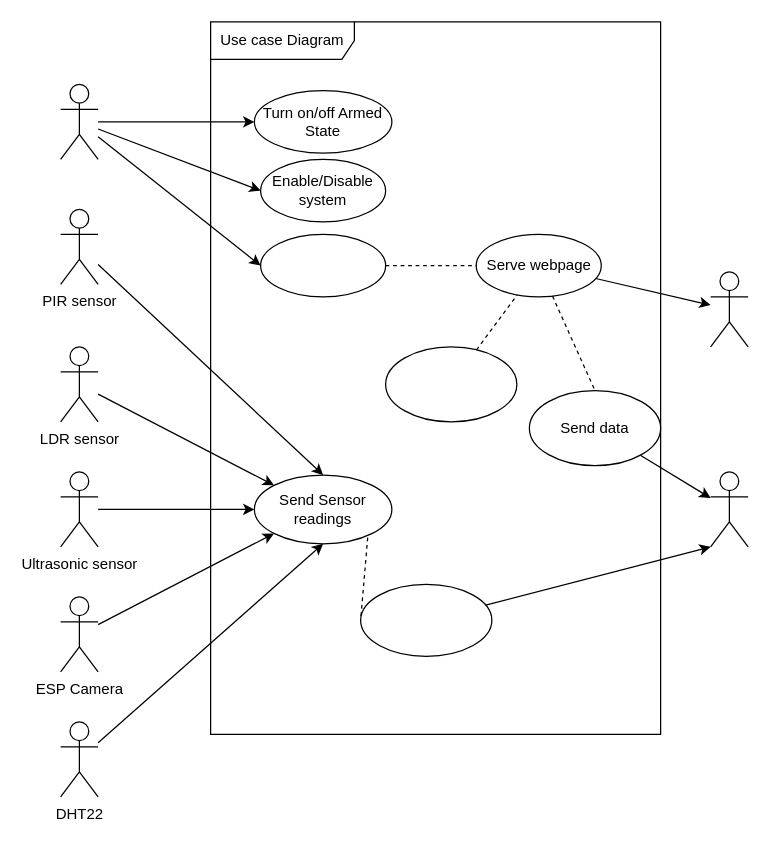
Some shapes in this 783 by 845 pixel diagram are drawn without their labels. The centre of each missing label's shape, as x and y in pixels:
Database: the point at 728,509
Flask: the point at 728,309
Request sensor readings: the point at 450,384
Store data: the point at 425,619
User: the point at 78,121
View Website: the point at 322,265
